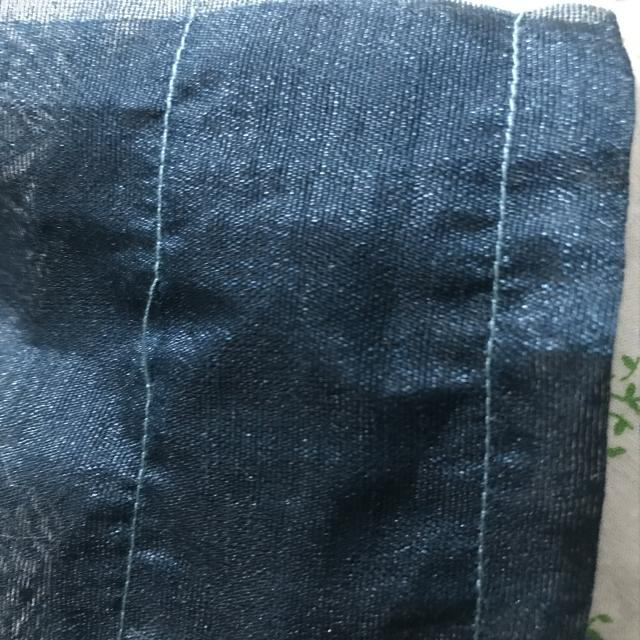good: (140, 94, 181, 209), (490, 167, 522, 276)
skip: (118, 252, 197, 400)
